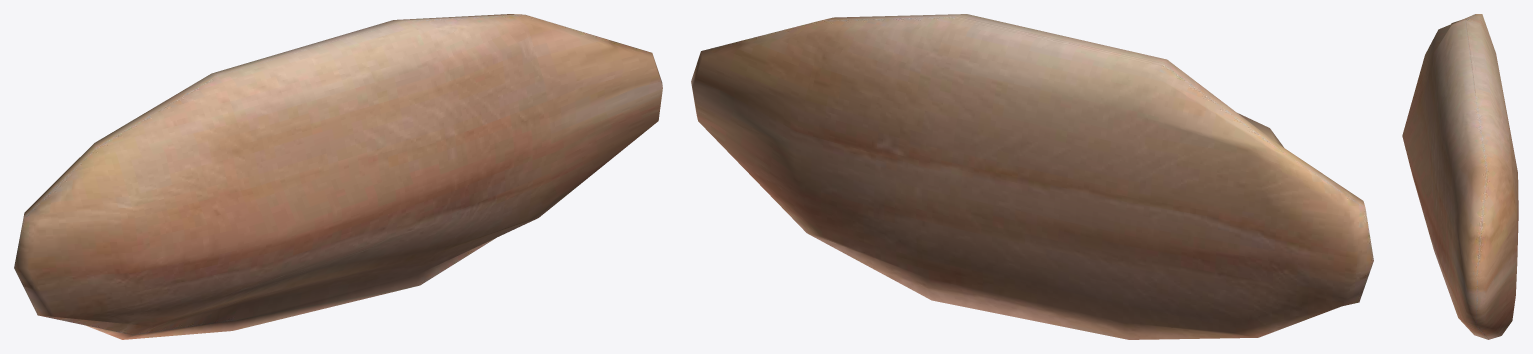
The model's file is pescado.glb.
3 views of the same model, side by side, from view 1: azimuth 30°, elevation 25°; view 2: azimuth 150°, elevation 25°; view 3: azimuth 270°, elevation 25° (orthographic). The views are drawn at different scales.
Visible parts, largest first — view 1: pescado.001; view 2: pescado.001; view 3: pescado.001.
Part boxes in pixels (left/top/right/bottom): pescado.001: left=14, top=14, right=662, bottom=339; pescado.001: left=691, top=14, right=1373, bottom=339; pescado.001: left=1402, top=14, right=1518, bottom=339.
Size of the model in its own units: 0.3473 by 0.1384 by 0.0653.
Materials: 1 (1 with a texture image).
